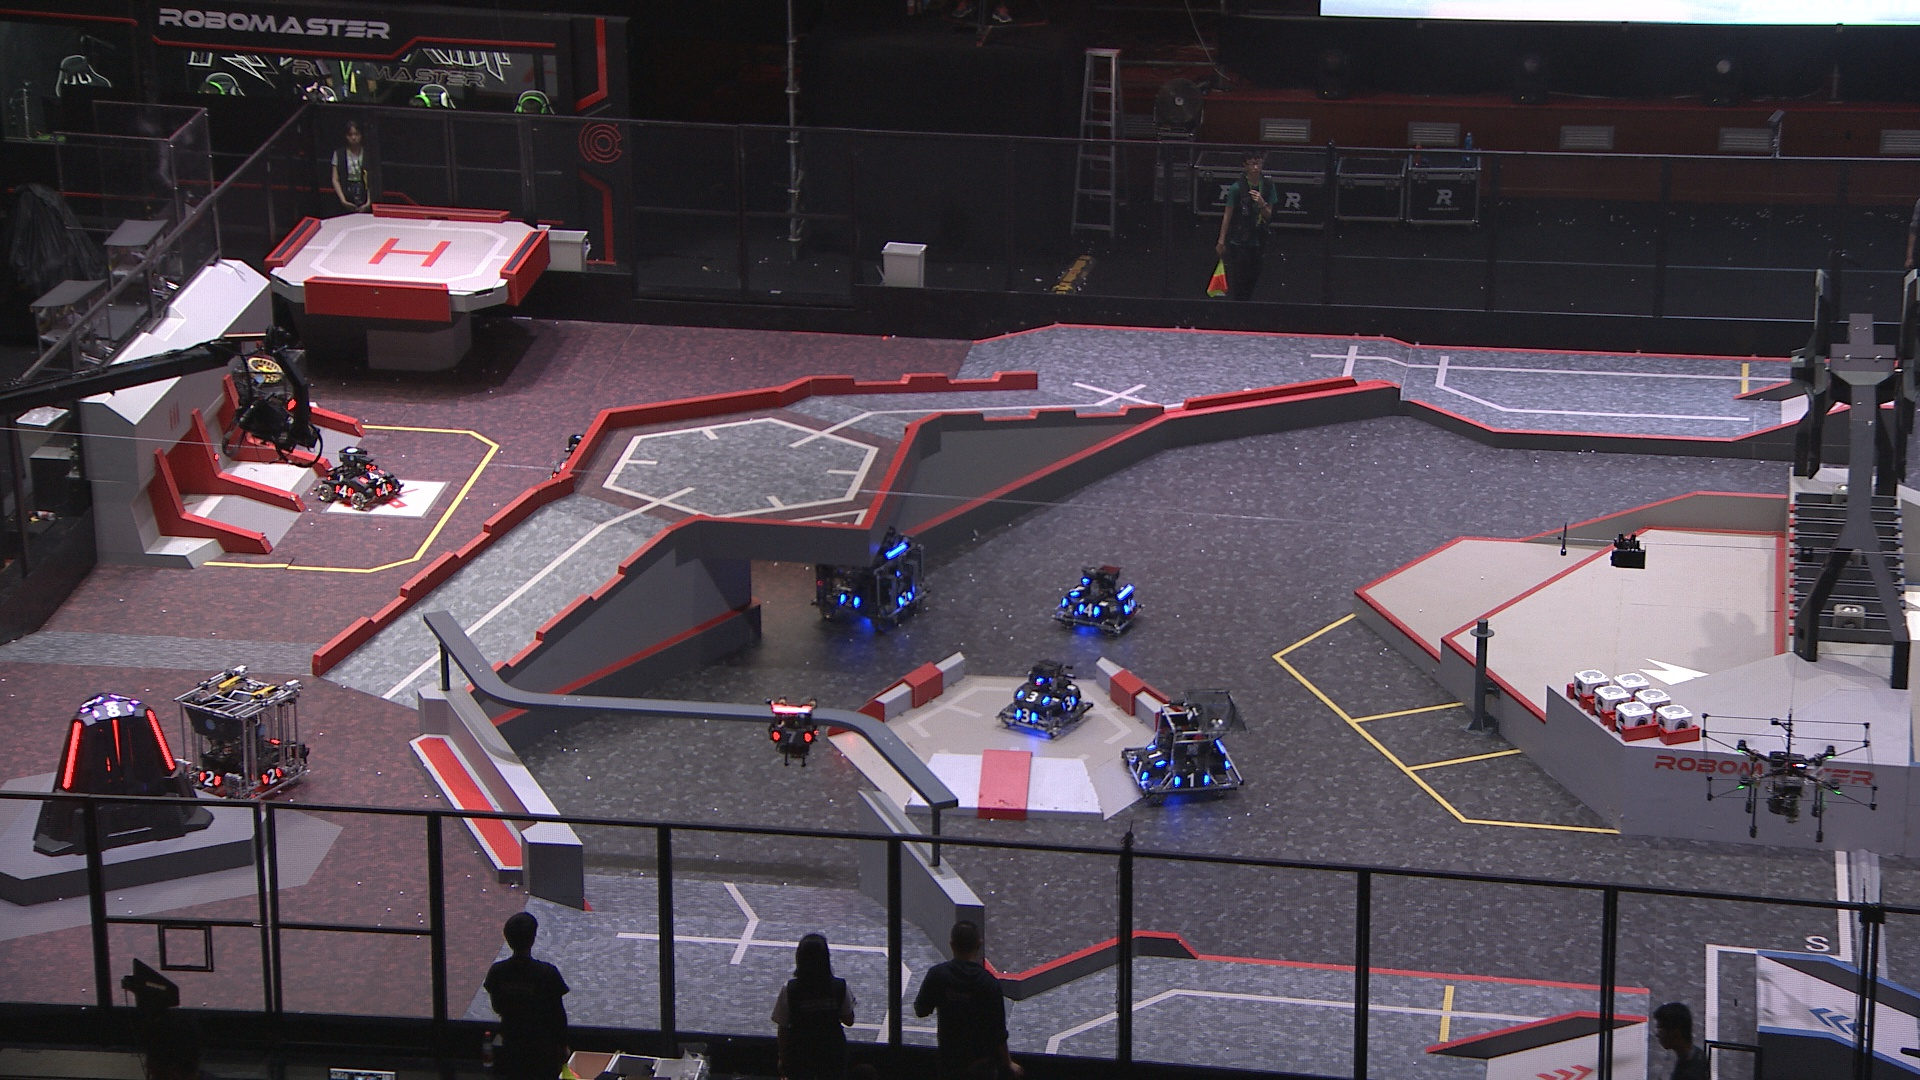armor: (145, 709, 174, 774), (62, 717, 82, 790), (1176, 769, 1211, 789), (770, 731, 814, 745), (111, 717, 124, 765), (258, 765, 284, 789), (1015, 688, 1048, 705), (195, 769, 223, 789), (1147, 744, 1166, 770), (837, 591, 861, 611), (357, 469, 384, 487), (1130, 760, 1149, 783), (1011, 707, 1038, 723), (330, 485, 356, 501), (895, 589, 915, 609), (1059, 695, 1079, 713), (1077, 603, 1101, 617), (376, 483, 396, 498), (1124, 595, 1135, 615), (1069, 582, 1084, 597)
base: (32, 690, 216, 858)
car: (178, 659, 314, 803), (1124, 684, 1247, 803), (814, 514, 928, 629), (222, 334, 318, 442), (997, 661, 1093, 736), (1050, 566, 1145, 638), (549, 434, 626, 514), (320, 448, 404, 513)
ignore: (94, 699, 135, 721)
watcher: (766, 694, 820, 764)
